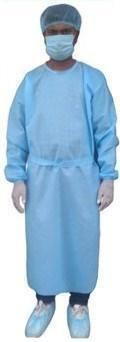apron: (96, 177, 116, 212), (9, 179, 30, 212)
